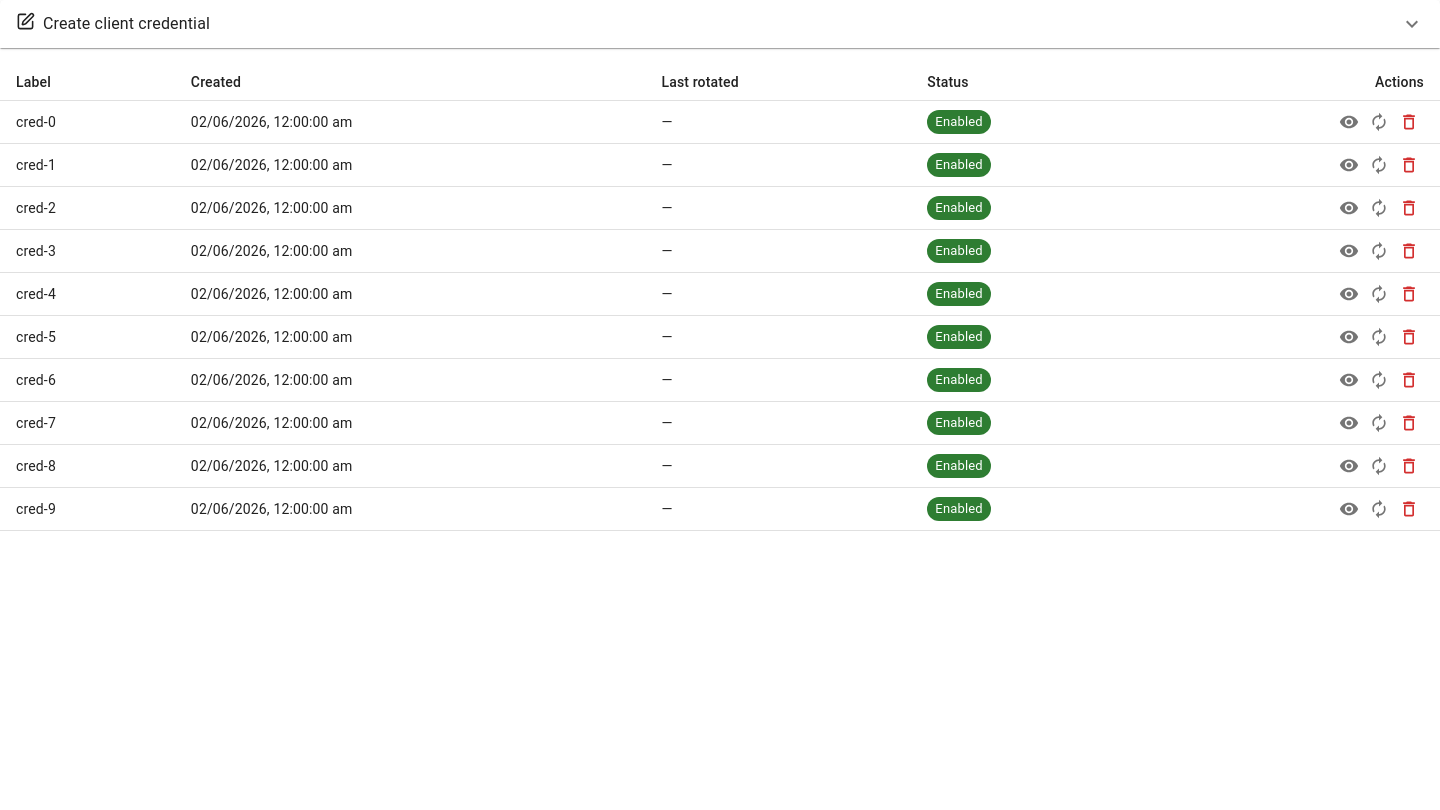
ClientCredentialsPanel › disables create and shows a limit message when 10 active credentials exist
What coordinates should you click on to do the following:
click the button "Create client credential"
I would click on:
 (127, 24)
Its box is [16,12,1424,36].
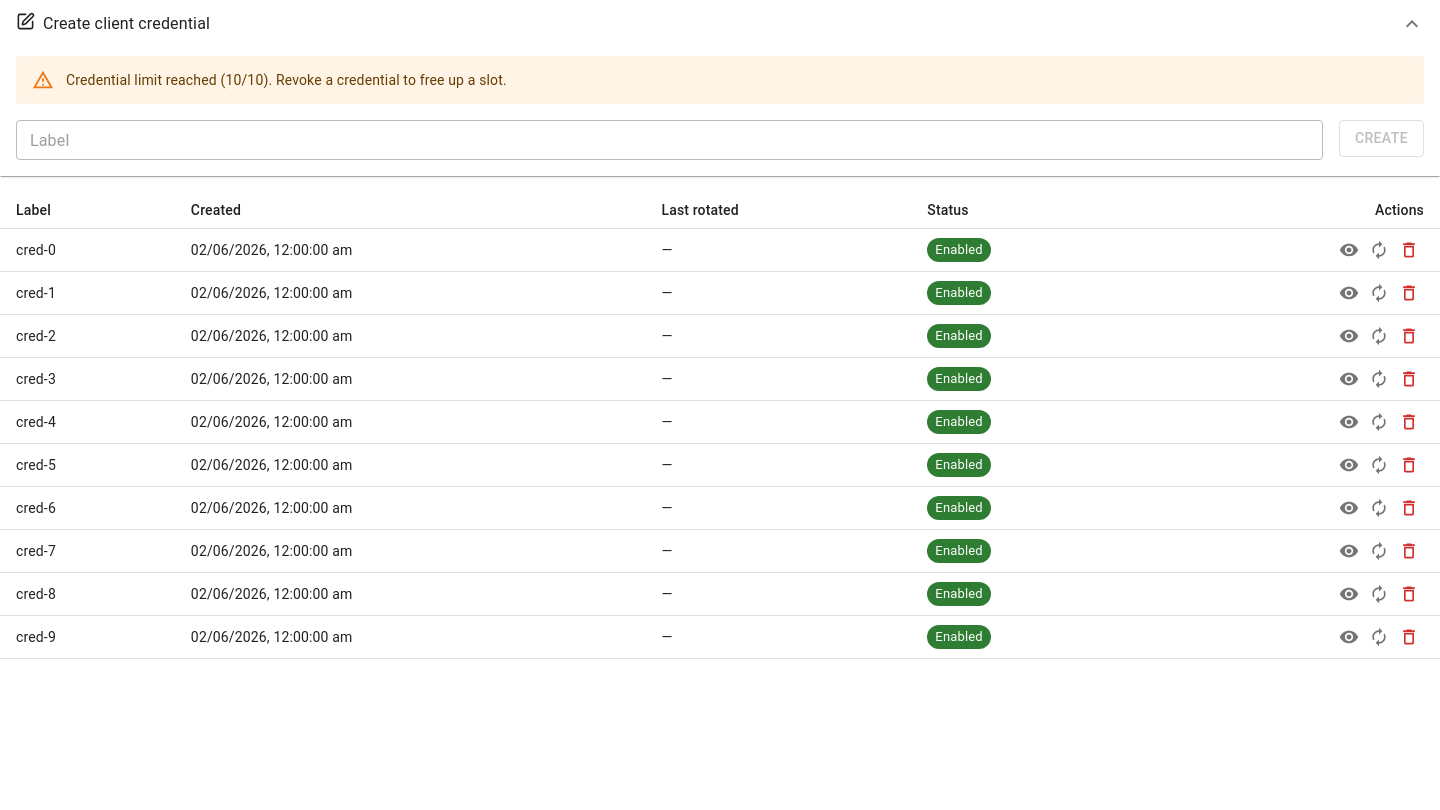
Expected: the text "Credential limit reached (10/10)" is shown, [66,72,507,88]
Expected: the button "Create" is disabled, [1339,120,1424,156]
